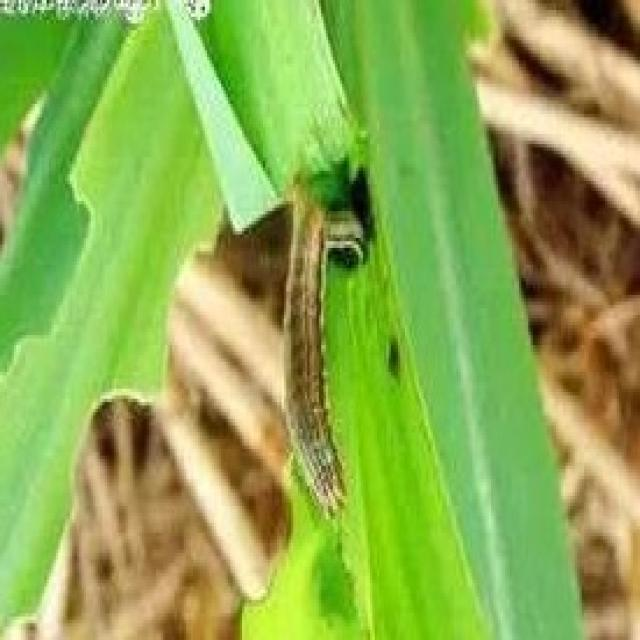army worm: (269, 182, 353, 524)
